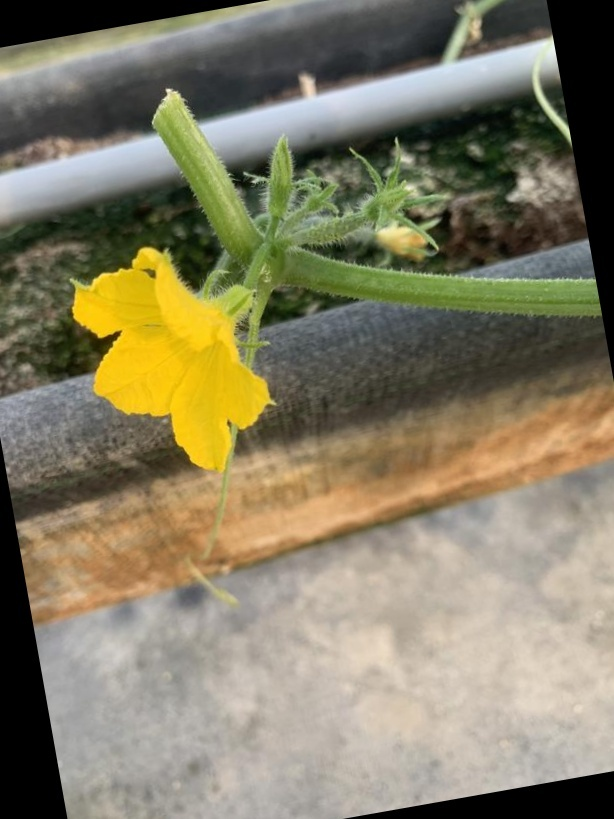flowering: (62, 244, 292, 477)
